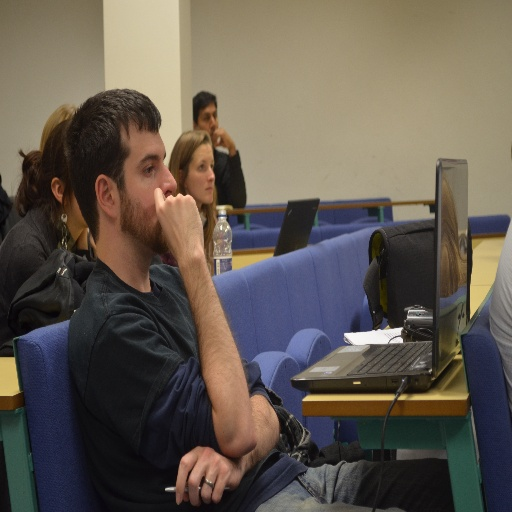hand: (174, 444, 245, 509), (152, 185, 205, 266), (210, 127, 233, 151)
